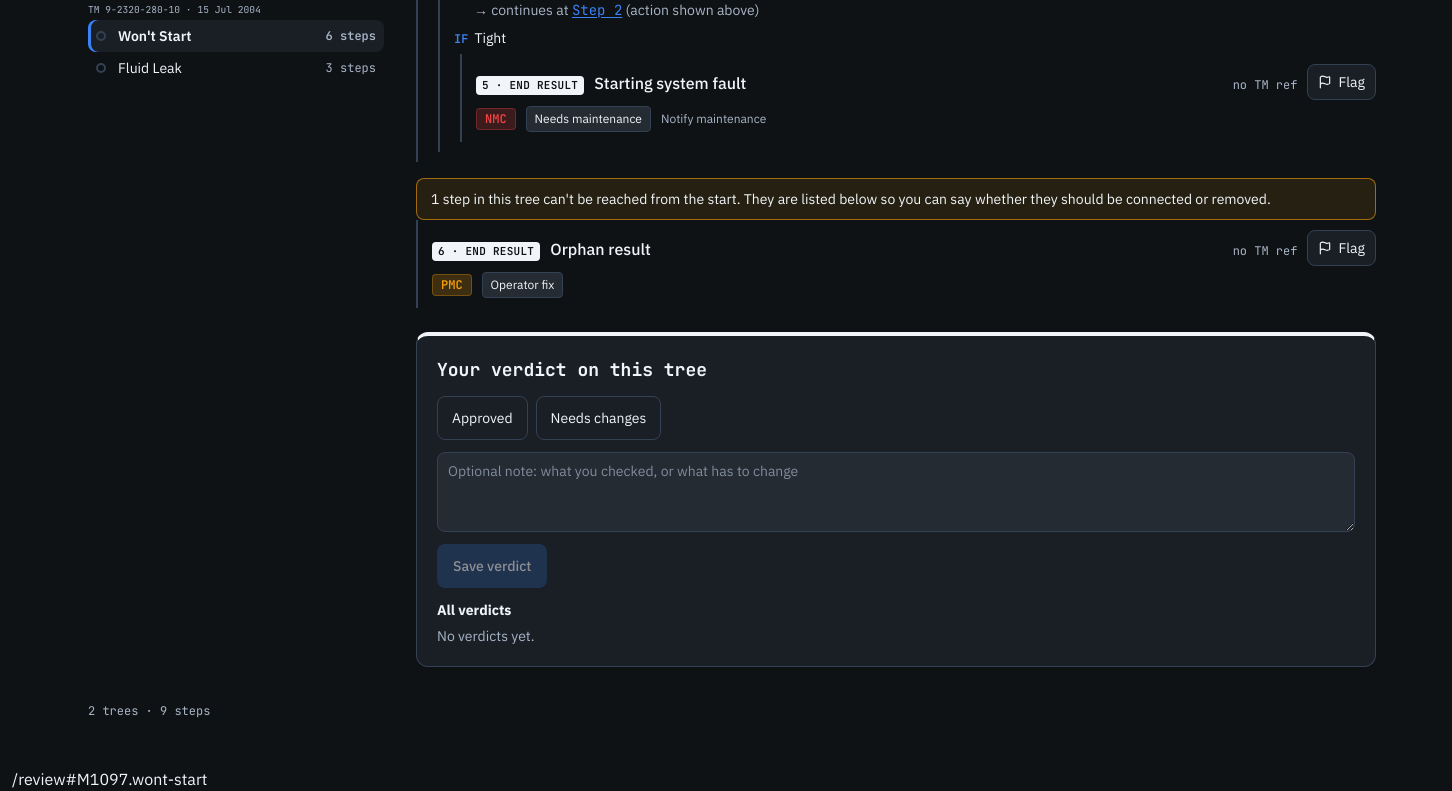
Test: Troubleshooting review: verdicts › approves a tree with no open flags and can withdraw it
(page scrolled)
Click the button "Approved" at point(482, 418), box [437,396,528,440]
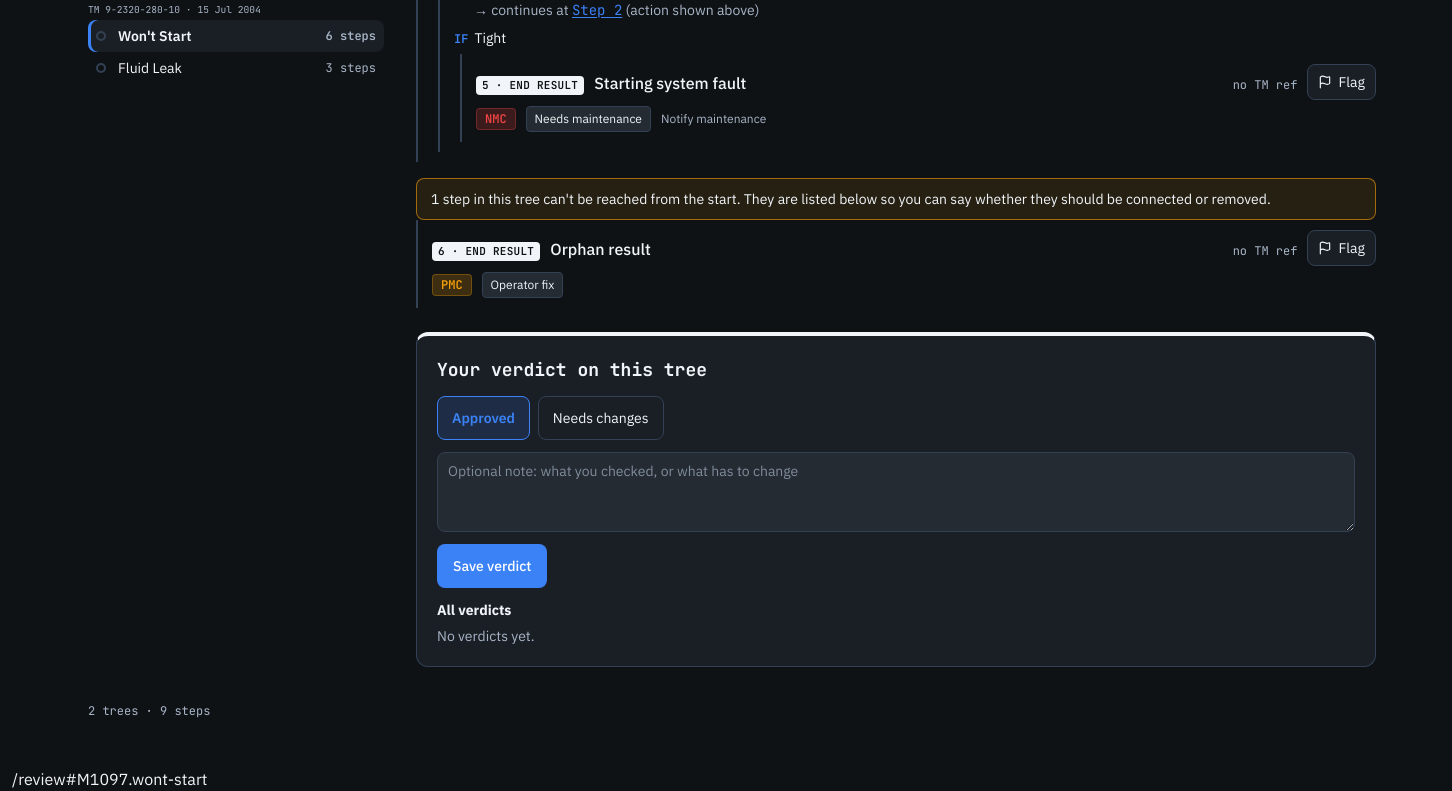
Click the button "Save verdict" at point(492, 566), box [437,544,547,588]
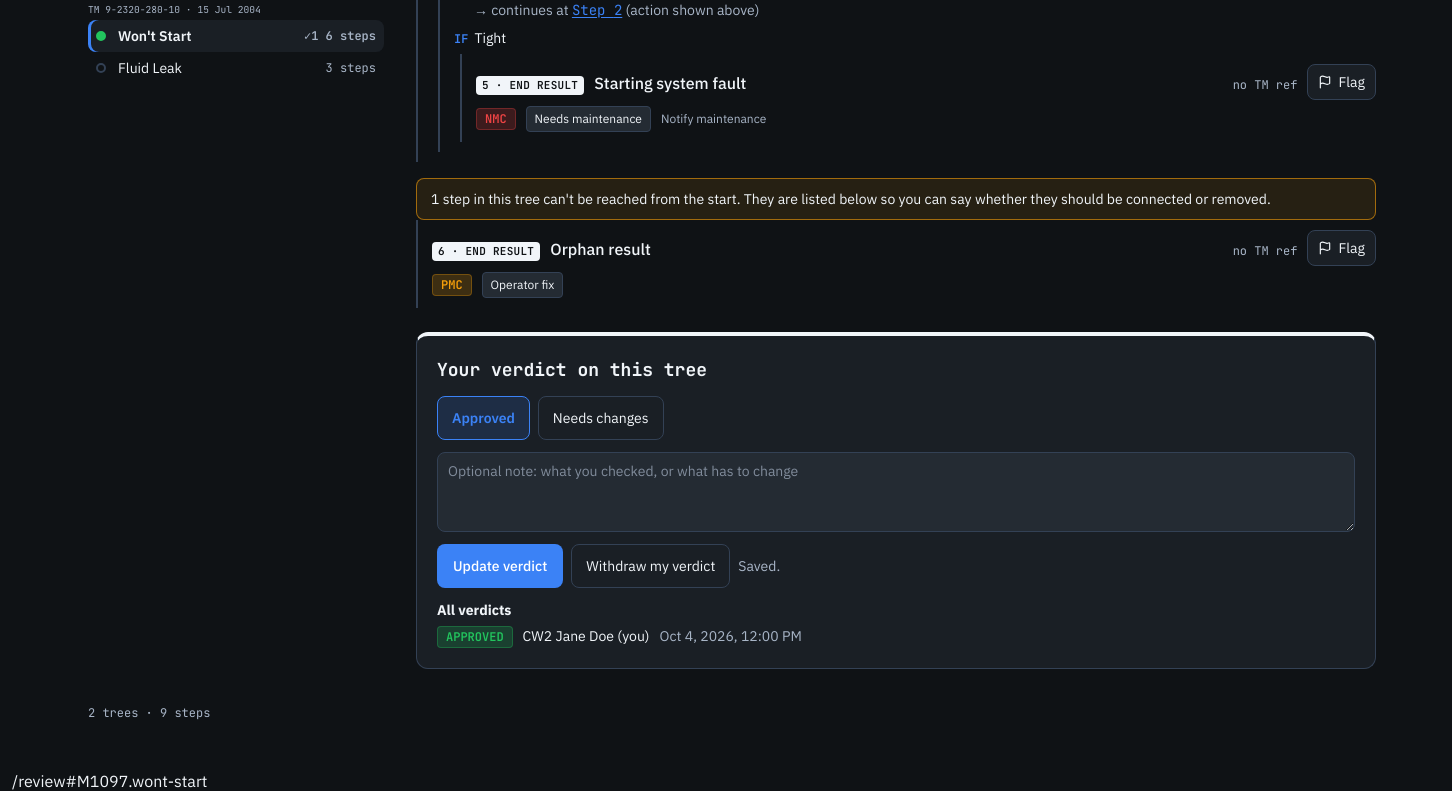
expect the text "APPROVED" is shown: met, box [437,626,513,648]
Click the button "Withdraw my verdict" at point(651, 566), box [571,544,730,588]
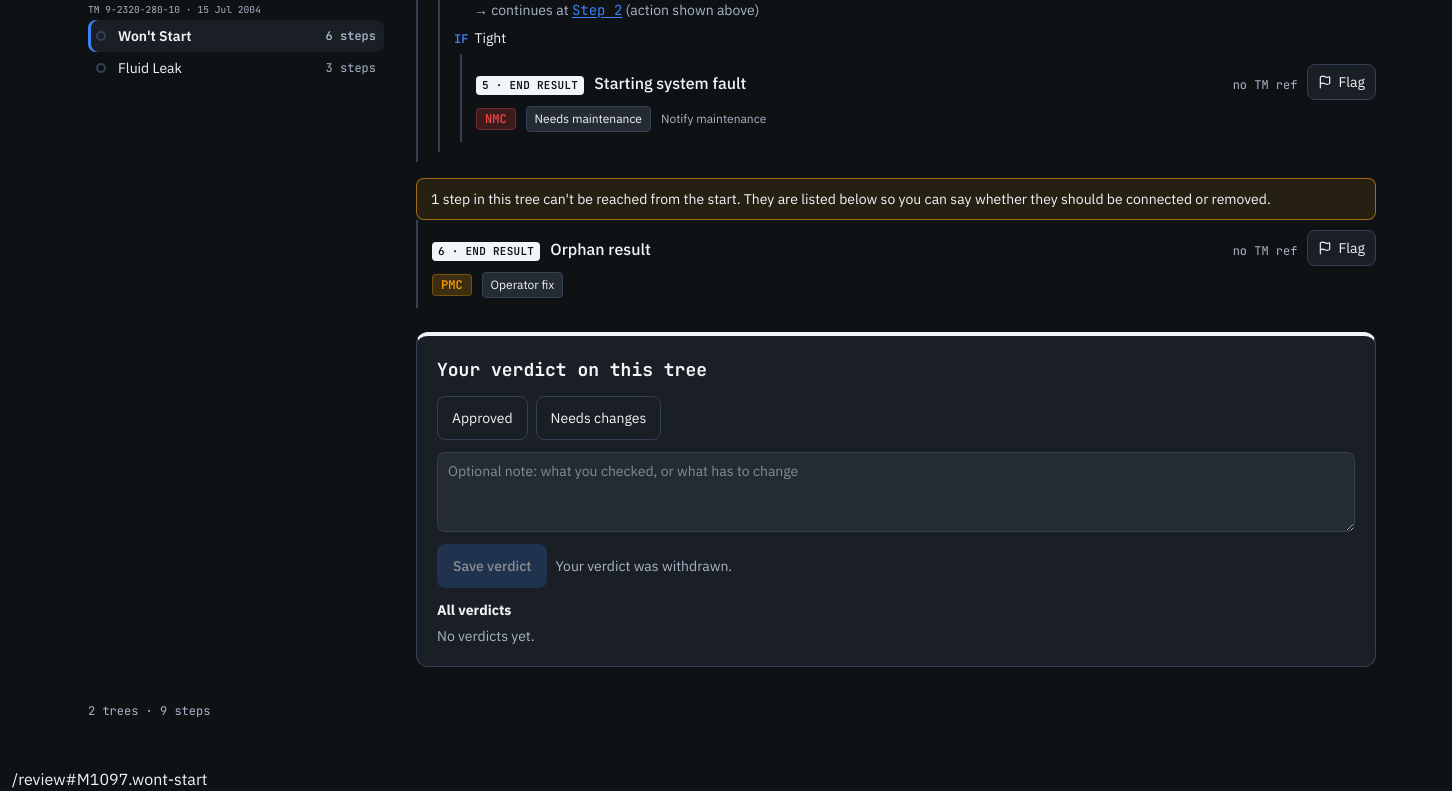
expect the text "No verdicts yet." is shown: met, box [437,627,535,645]
